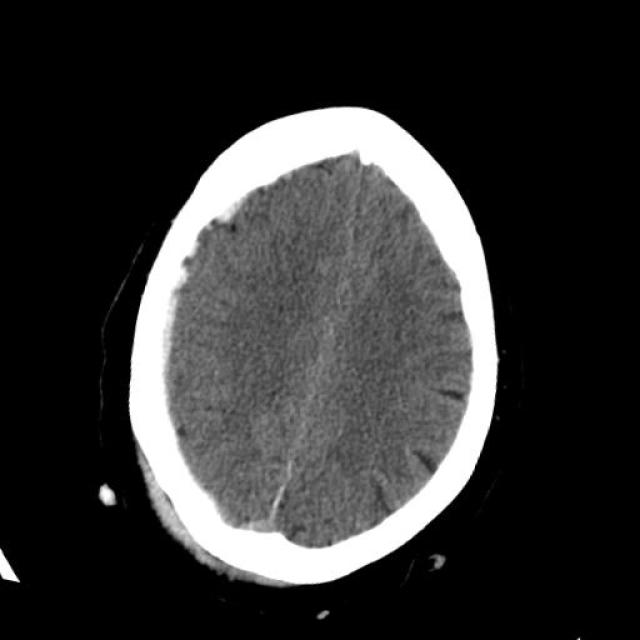Subdural: (94, 154, 284, 424)
